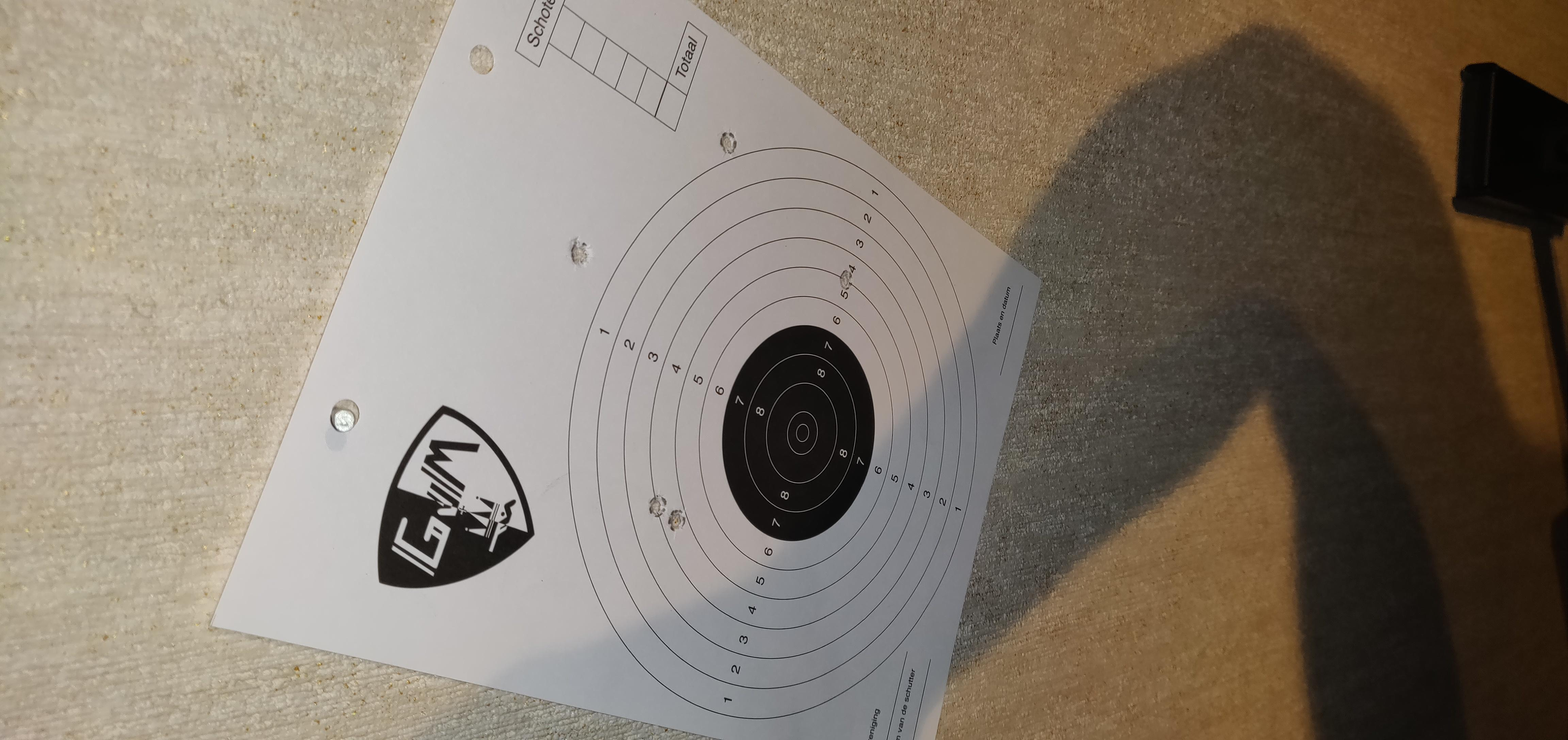hole: (1001, 268, 1062, 280), (477, 305, 523, 315), (1245, 339, 1289, 349), (446, 315, 489, 324), (957, 396, 1005, 404)
